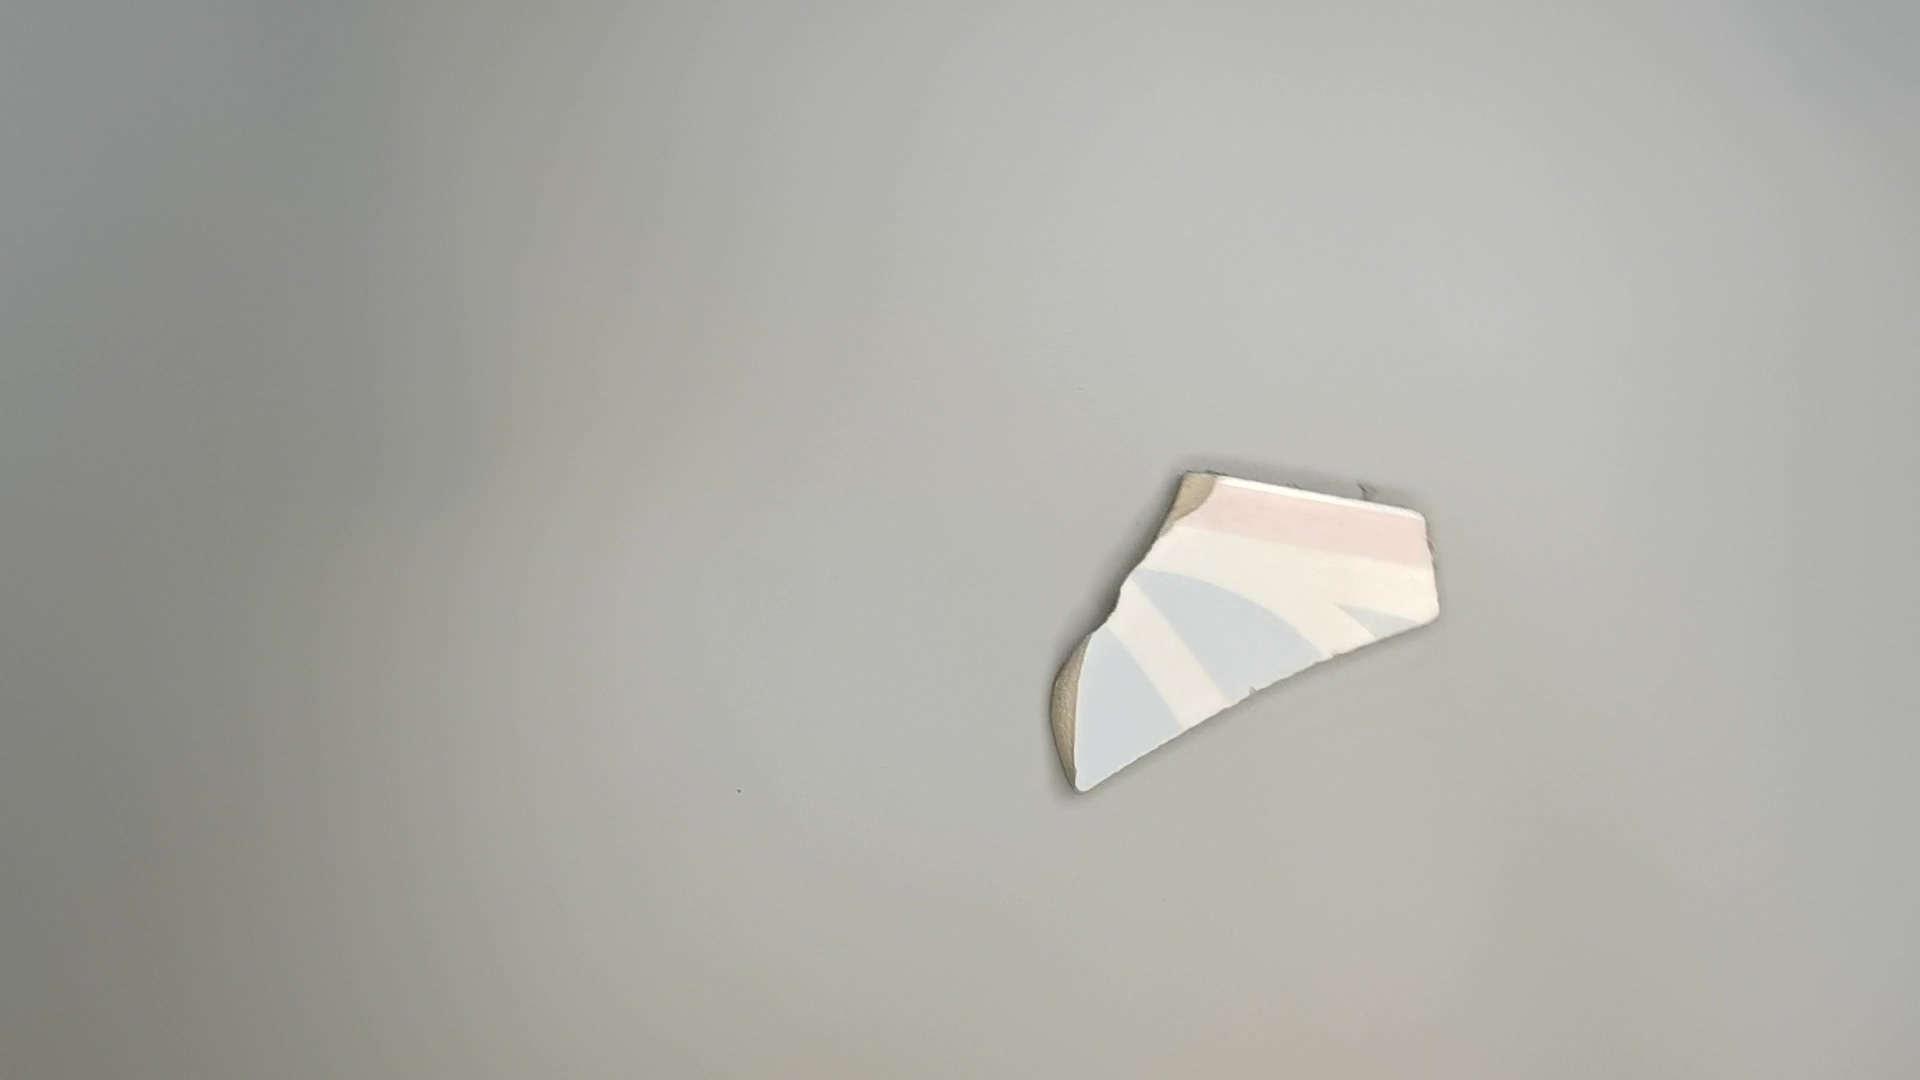ceramic: (1022, 456, 1449, 802)
